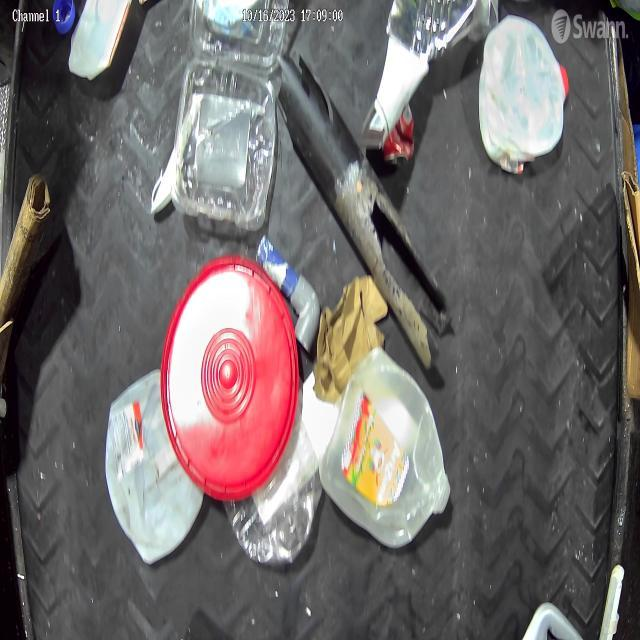milk_jug: (339, 346, 449, 553), (475, 12, 571, 176), (104, 366, 172, 564)
